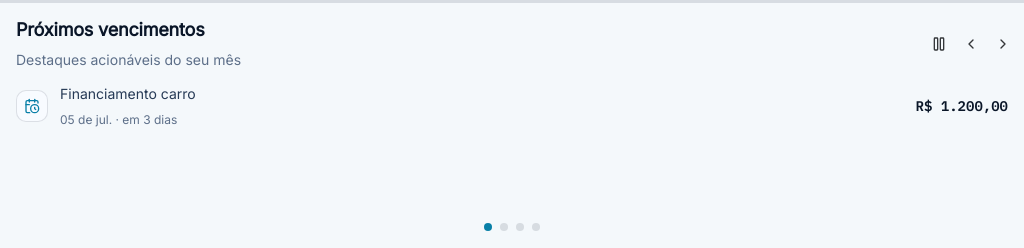
Test: DashboardInsightCarousel › navigates backward wrapping to the last panel
The image size is (1024, 248).
Click the button with test id "insight-carousel-prev" at x=962, y=44, box [948, 30, 976, 58]
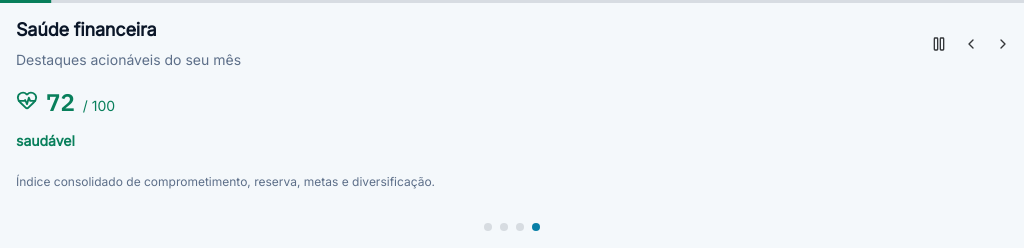
Check: the text "Saúde financeira" is shown, box [16, 19, 156, 40]
